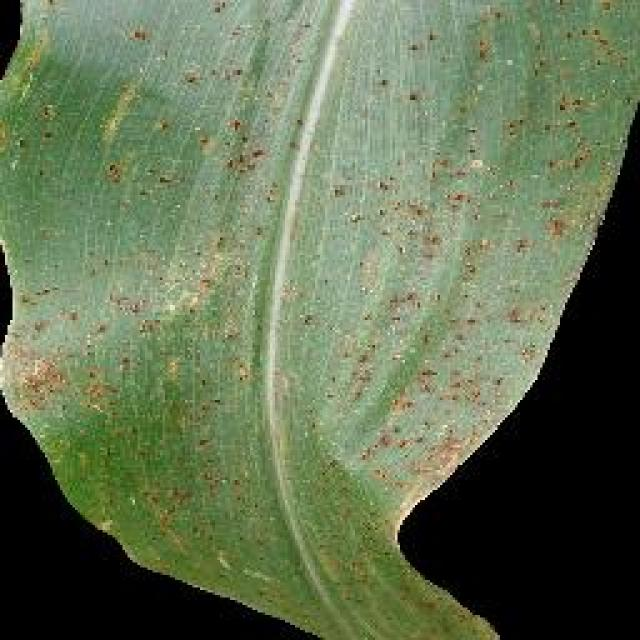Corn Common Rust: (0, 10, 560, 592)
